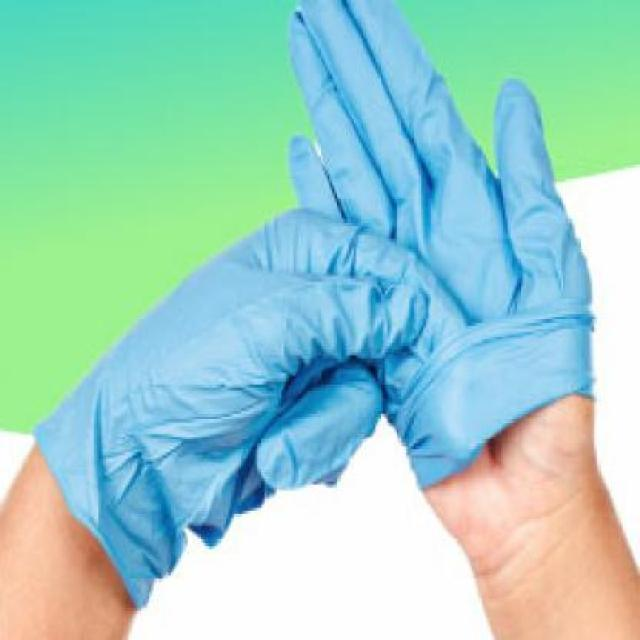gloved_hand: (29, 210, 466, 610), (288, 4, 597, 484)
